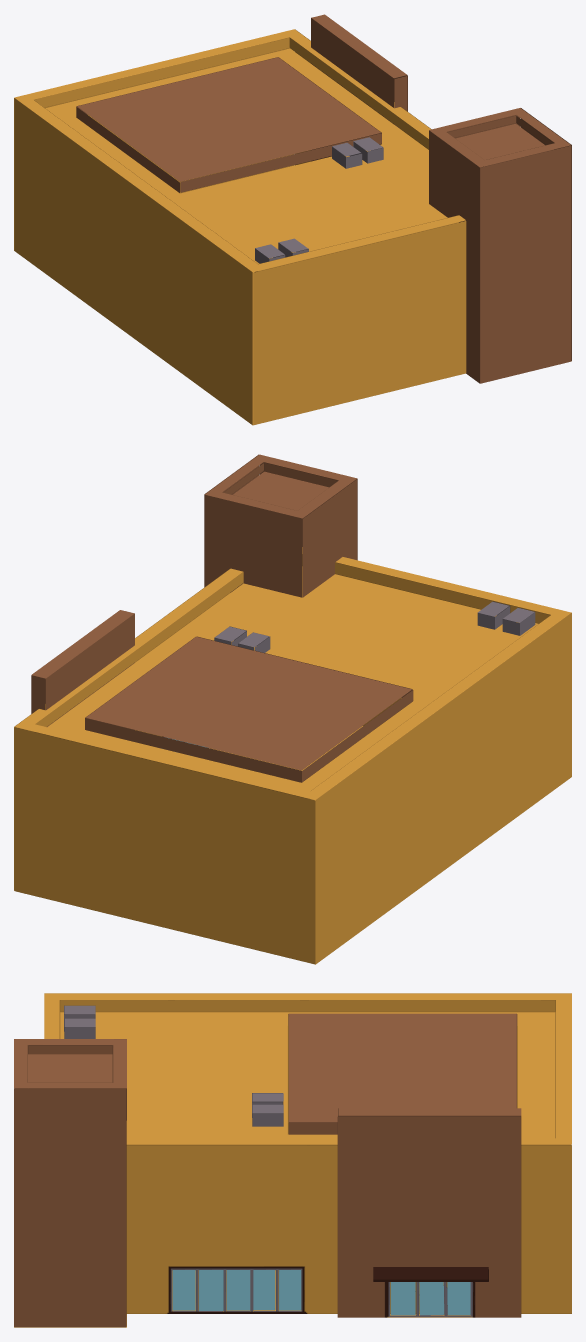
The model's file is supermarket.fbx.
The picture shows the model from 3 angles, top to bottom: view 1: azimuth 30°, elevation 25°; view 2: azimuth 150°, elevation 25°; view 3: azimuth 270°, elevation 25°; orthographic projection. The views are drawn at different scales.
Visible parts, largest first — view 1: Supermarket; view 2: Supermarket; view 3: Supermarket.
Boxes of the visible parts, x1,y1,x2,y2 form: Supermarket: [14, 14, 571, 425]; Supermarket: [14, 454, 571, 964]; Supermarket: [14, 993, 571, 1327].
Size of the model in its own units: 2513 by 1670 by 3534.
5 materials, 5 textured.
